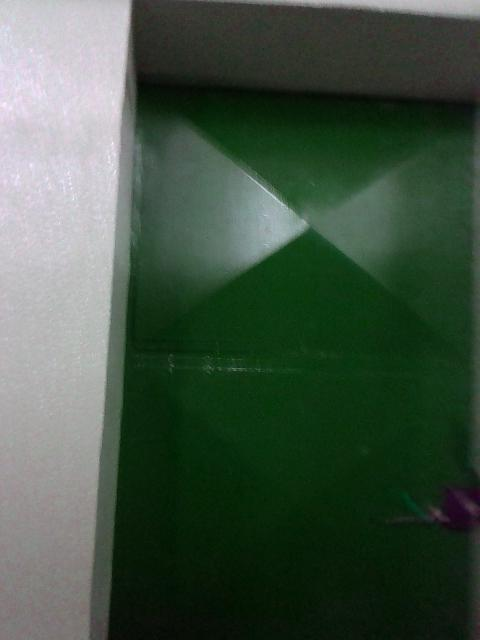closed_door: (103, 89, 479, 627)
